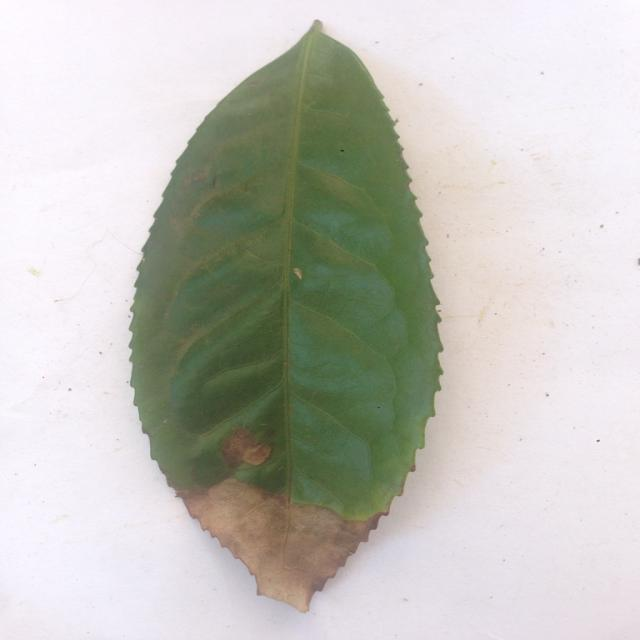Brown Blight: (129, 20, 463, 618)
